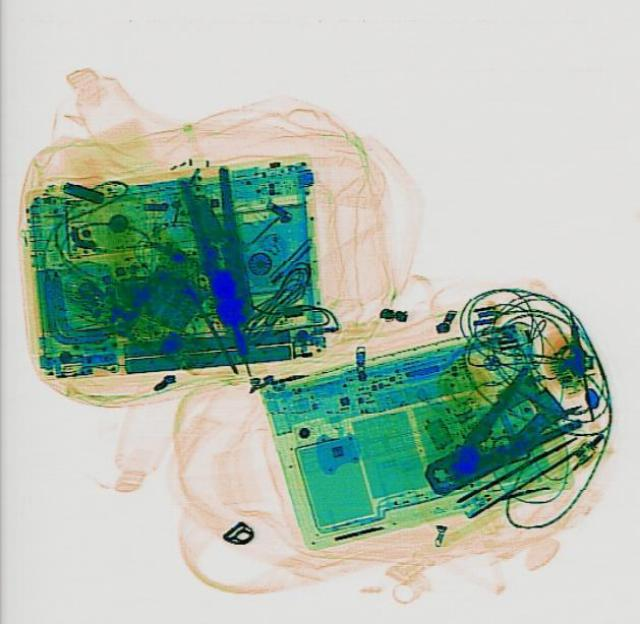Pliers: (400, 360, 584, 511)
